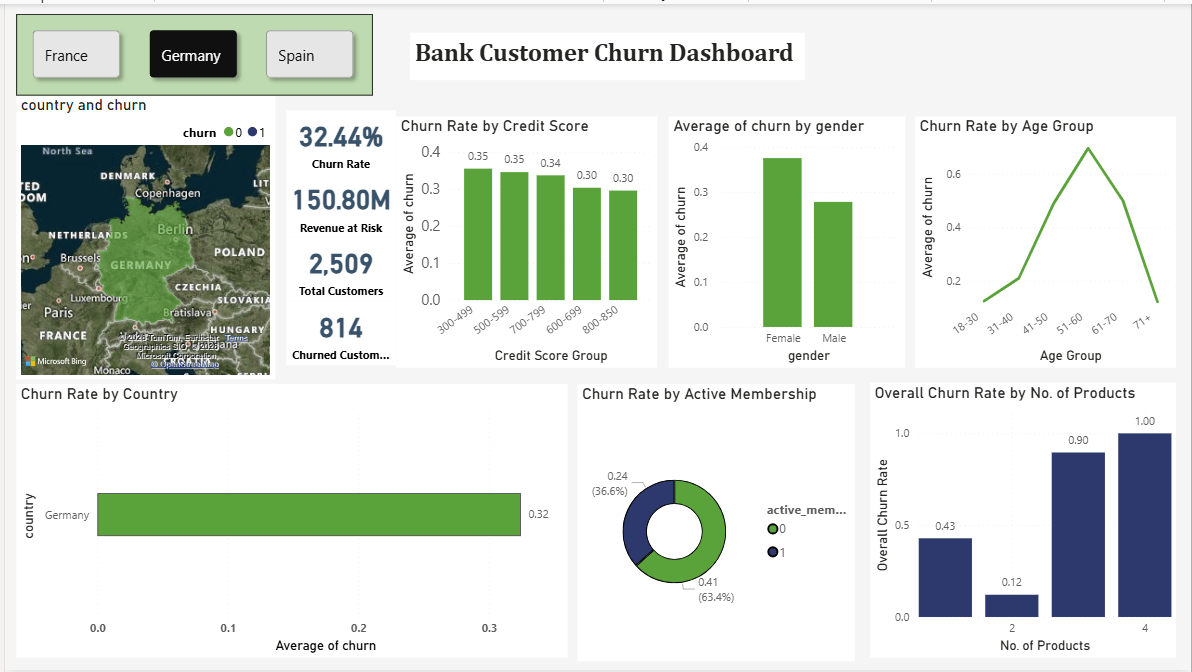

What the dashboard file says about the page in this screenshot:
{"tool":"powerbi","page":{"name":"Page 1","canvas":[1280,720],"ordinal":0},"visuals":[{"type":"clusteredBarChart","title":"Churn Rate by Country","fields":{"Category":["BC_Customers.country"],"Y":["Avg(BC_accounts.churn)"]},"box":[12.1,410.1,594.9,295.4],"z":0},{"type":"clusteredColumnChart","fields":{"Category":["BC_accounts.products_number"],"Y":["BC_accounts.Overall Churn Rate"]},"box":[933.6,408.8,330.5,296.8],"z":1000},{"type":"lineChart","title":"Churn Rate by Age Group","fields":{"Y":["Avg(BC_accounts.churn)"],"Category":["BC_Customers.Age Group"]},"box":[982.1,121.4,282,271.2],"z":2000},{"type":"donutChart","title":"Churn Rate by Active Membership","fields":{"Category":["BC_accounts.active_member"],"Y":["Avg(BC_accounts.churn)"]},"box":[617.9,410.1,299.5,299.5],"z":3000},{"type":"card","fields":{"Values":["BC_accounts.Revenue at Risk"]},"box":[303.5,183.5,118.7,68.8],"z":4000},{"type":"card","fields":{"Values":["BC_Customers.Total Customers"]},"box":[303.5,252.3,118.7,68.8],"z":5000},{"type":"card","fields":{"Values":["BC_accounts.Overall Churn Rate"]},"box":[303.5,114.7,118.7,68.8],"z":6000},{"type":"filledMap","fields":{"Category":["BC_Customers.country"],"Series":["BC_accounts.churn"]},"box":[12.1,98.5,279.3,306.2],"z":7000},{"type":"advancedSlicerVisual","fields":{"Values":["BC_Customers.country"]},"box":[12.1,10.8,384.5,87.7],"z":8000},{"type":"textbox","box":[437.1,31,426.3,51.3],"z":9000},{"type":"card","fields":{"Values":["BC_accounts.Churned Customers"]},"box":[303.5,321.1,118.7,68.8],"z":10000},{"type":"columnChart","fields":{"Category":["BC_Customers.gender"],"Y":["Avg(BC_accounts.churn)"]},"box":[716.4,121.4,255,271.2],"z":11000},{"type":"clusteredColumnChart","title":"Churn Rate by Credit Score","fields":{"Y":["Avg(BC_accounts.churn)"],"Category":["BC_Customers.Credit Score Group"]},"box":[422.3,121.4,282,271.2],"z":12000}]}

Visuals, with their boxes in screenshot pixels (x1, y1, x2, y2), scaled from the page's 1280x720 canvas onto the 1192x672 screenshot:
"Churn Rate by Country" clusteredBarChart: l=11, t=383, r=565, b=658
clusteredColumnChart - BC_accounts.products_number x BC_accounts.Overall Churn Rate: l=869, t=382, r=1177, b=659
"Churn Rate by Age Group" lineChart: l=915, t=113, r=1177, b=366
"Churn Rate by Active Membership" donutChart: l=575, t=383, r=854, b=662
card - BC_accounts.Revenue at Risk: l=283, t=171, r=393, b=235
card - BC_Customers.Total Customers: l=283, t=235, r=393, b=300
card - BC_accounts.Overall Churn Rate: l=283, t=107, r=393, b=171
filledMap - BC_Customers.country x BC_accounts.churn: l=11, t=92, r=271, b=378
advancedSlicerVisual - BC_Customers.country: l=11, t=10, r=369, b=92
textbox: l=407, t=29, r=804, b=77
card - BC_accounts.Churned Customers: l=283, t=300, r=393, b=364
columnChart - BC_Customers.gender x Avg(BC_accounts.churn): l=667, t=113, r=905, b=366
"Churn Rate by Credit Score" clusteredColumnChart: l=393, t=113, r=656, b=366
